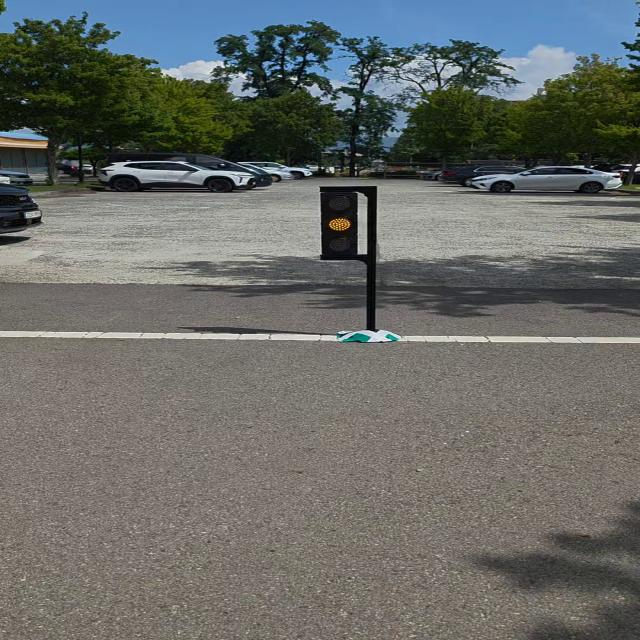yellow: (320, 190, 360, 259)
